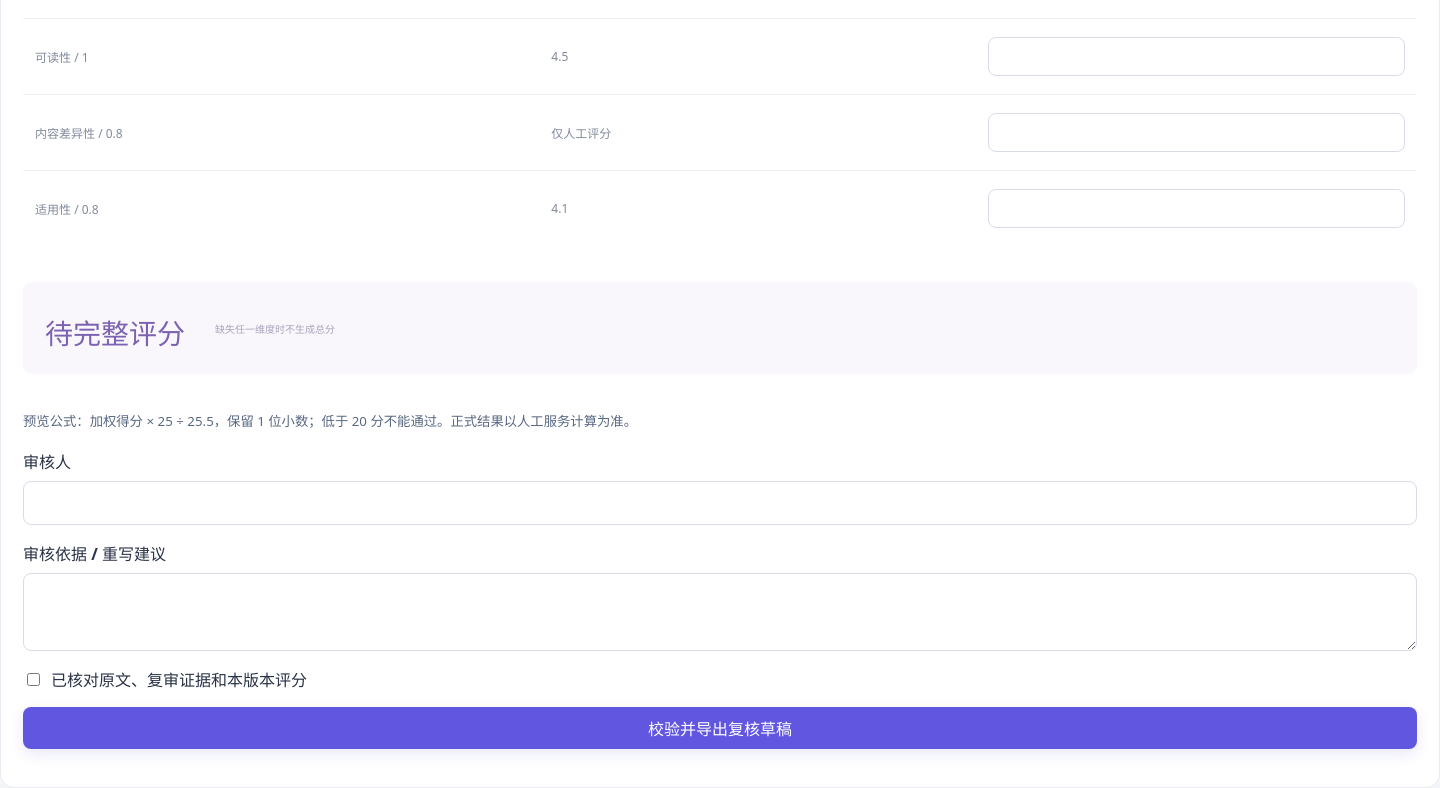
Test: operations local-only gates › requires item decisions and human evidence before export
(page scrolled)
What coordinates should you click on to do the following:
click the button "校验并导出复核草稿"
I would click on:
 (720, 728)
Its box is [23,707,1417,749].
(page scrolled)
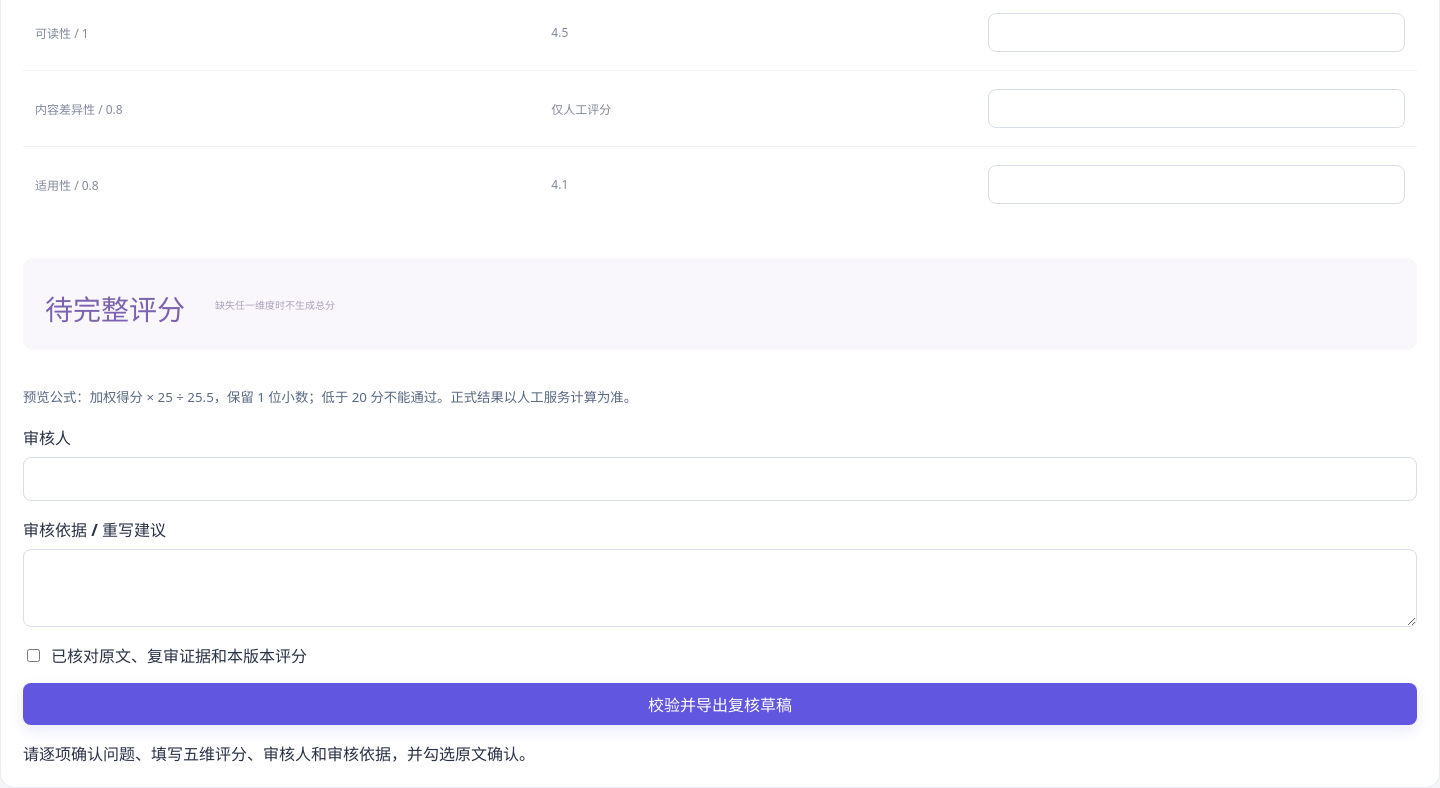
expect the text "请逐项确认问题、填写五维评分、审核人和审核依据，并勾选原文确认。" is shown: met, box [23,743,535,765]
